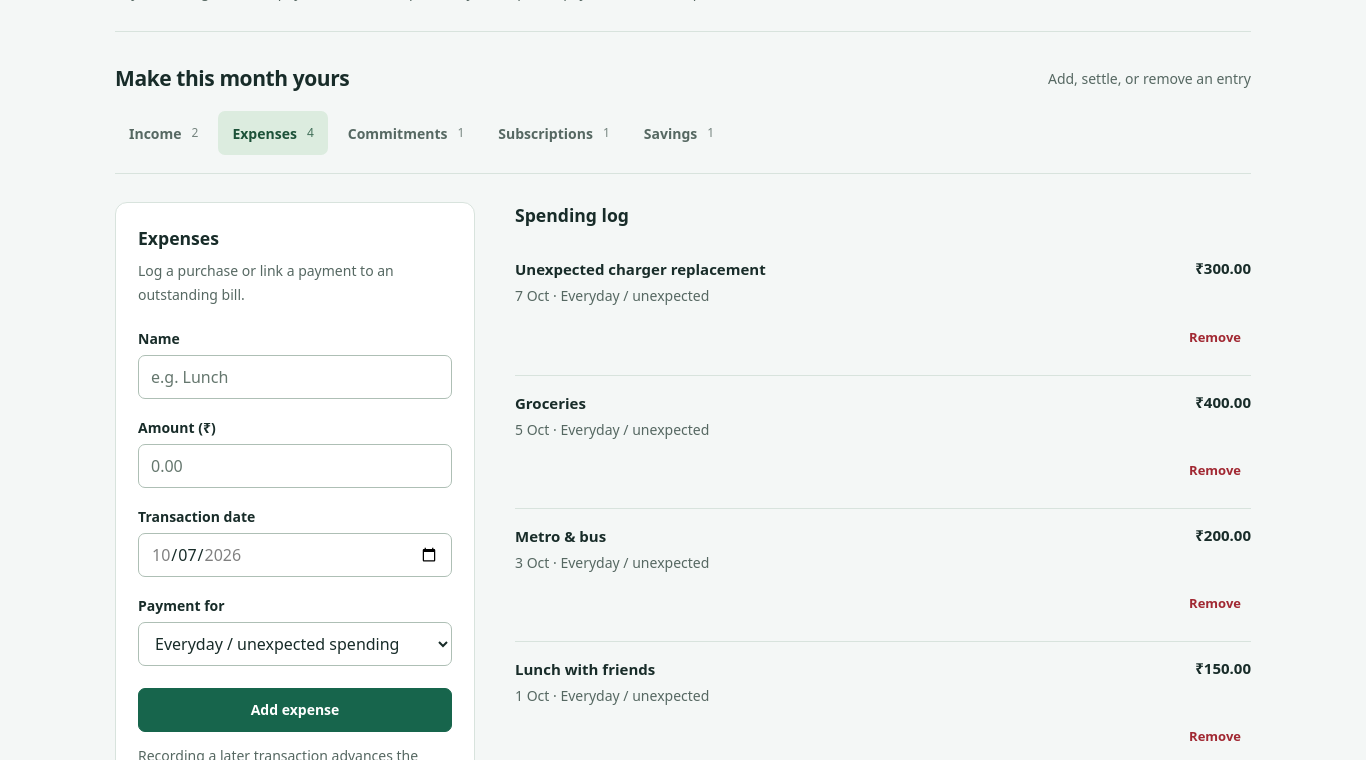
Test: My Month complete shared-state flow › changes health and forecasts immediately after a large expense, then recovers on removal
(page scrolled)
Type "Emergency hospital bill" into the field labelled "Name". click: (295,377)
box: [138, 355, 452, 399]
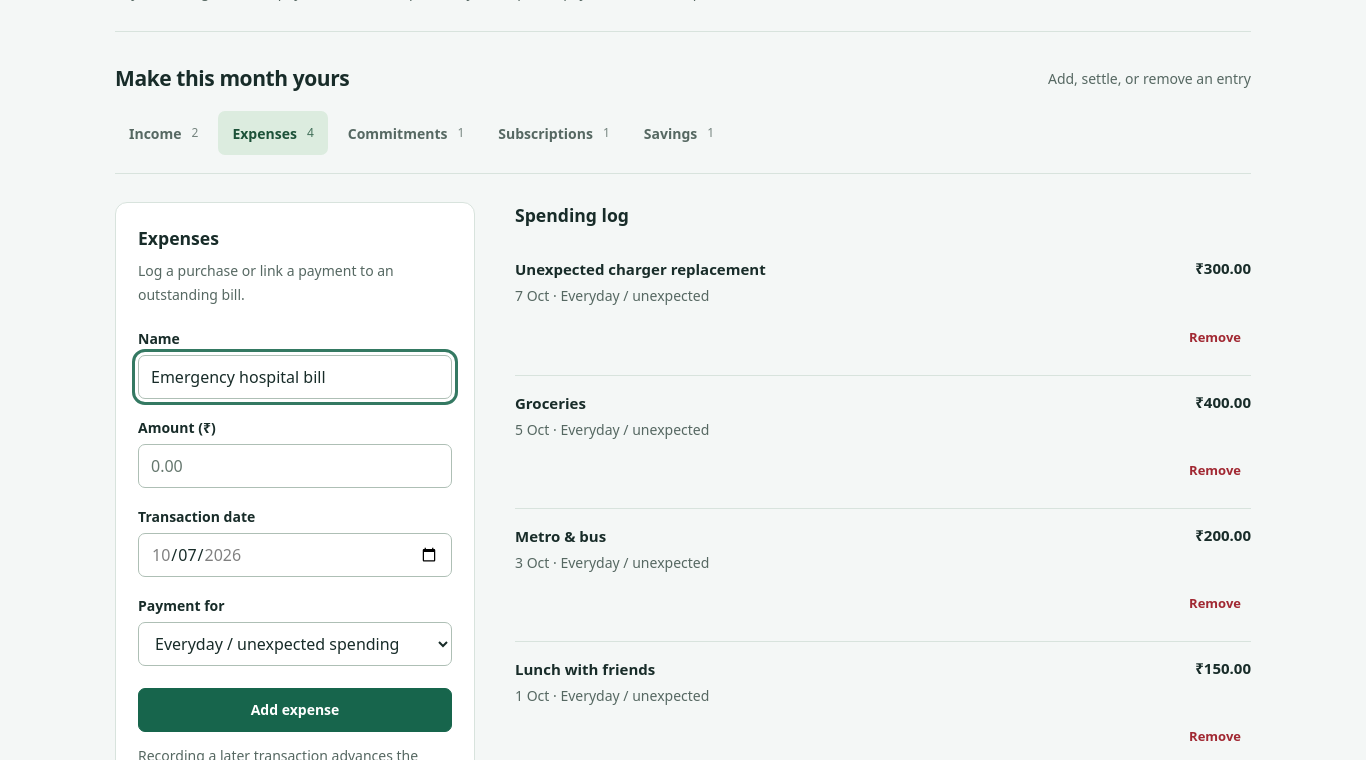
Type "12000" into the field labelled "Amount (₹)". click: (295,466)
box: [138, 444, 452, 488]
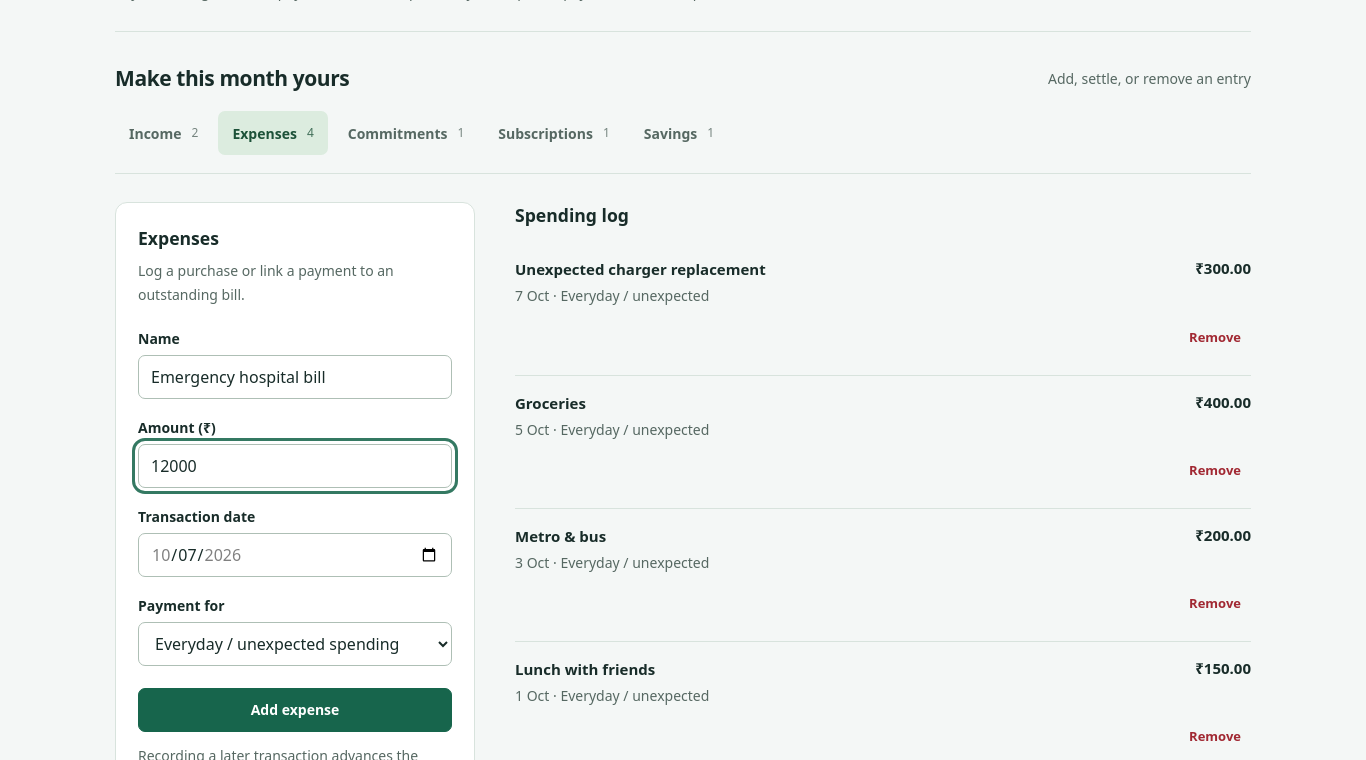
Click the button "Add expense". click: (295,710)
box: [138, 688, 452, 732]
(page scrolled)
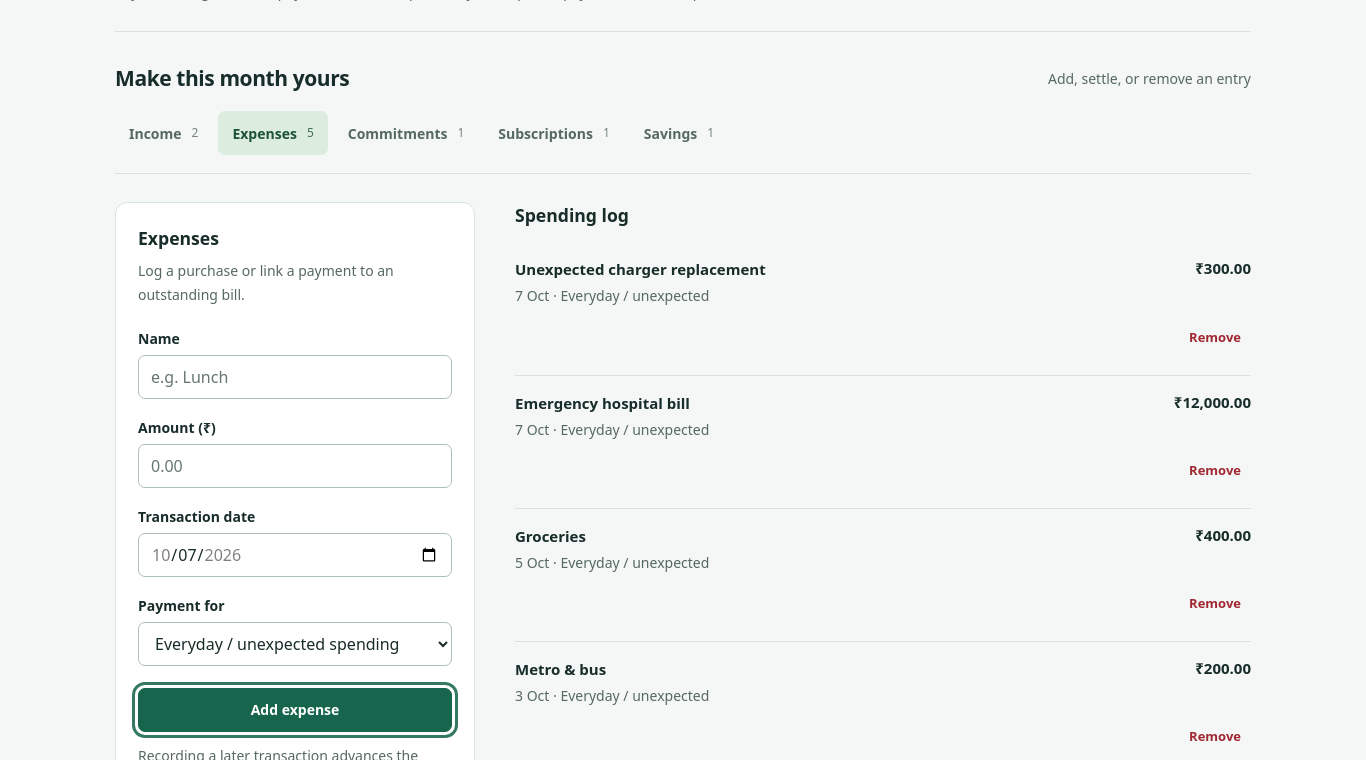
Click the button with aria-label "Remove Emergency hospital bill". click: (1215,471)
box: [1179, 449, 1251, 493]
(page scrolled)
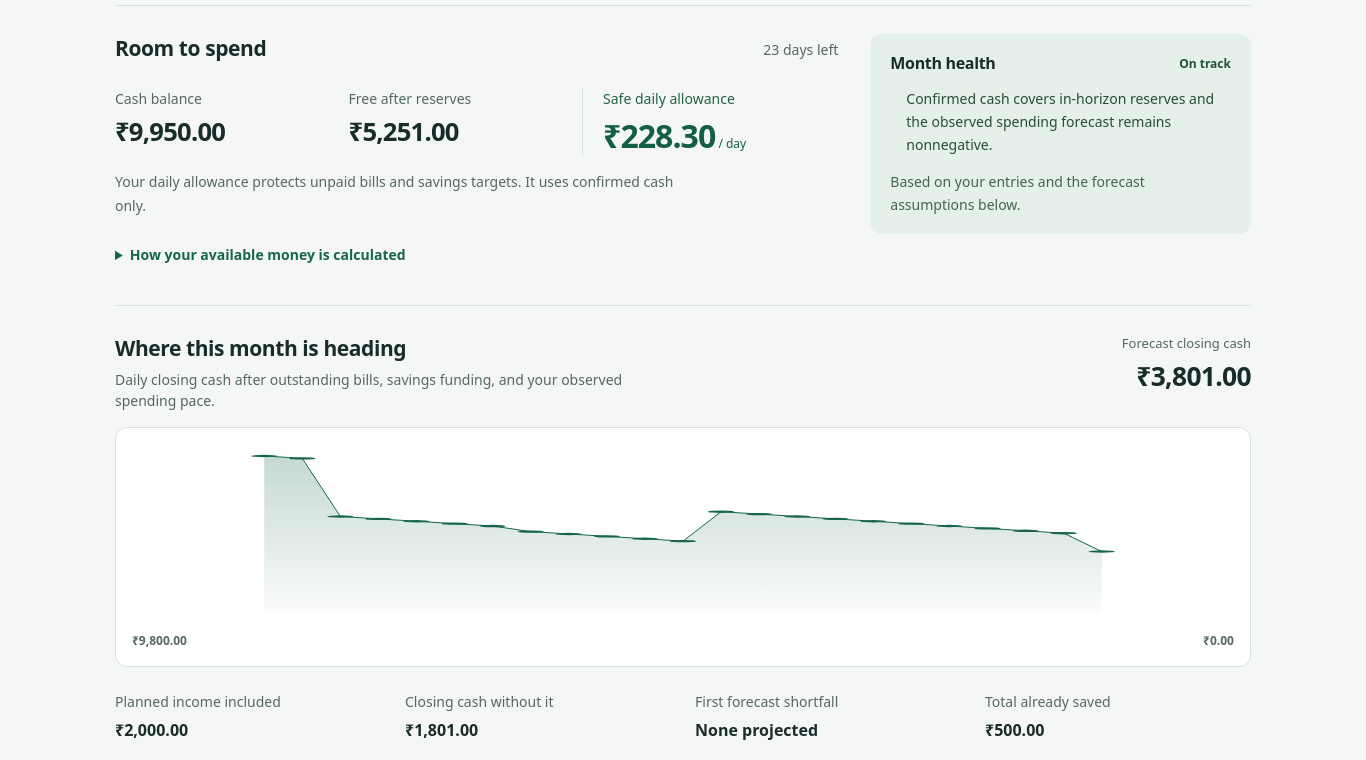
Now the text with test id "cash-balance" reads "₹9,950.00", box [115, 114, 225, 149]
Now the text with test id "health-state" reads "On track", box [1179, 55, 1231, 72]
Now the text with test id "forecast-closing" reads "₹3,801.00", box [1136, 358, 1251, 394]
